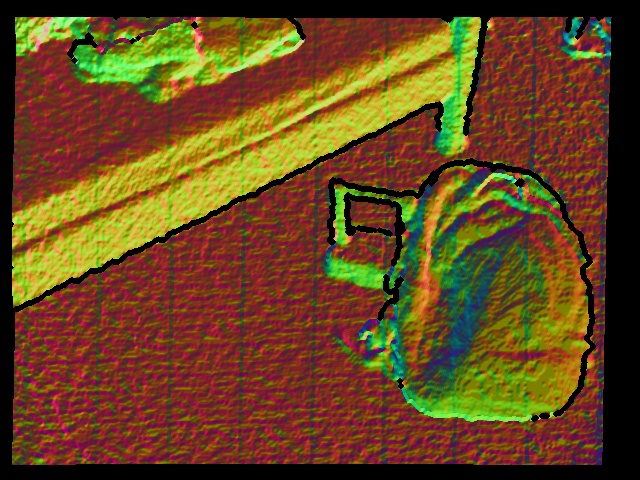station: (324, 180, 424, 291)
